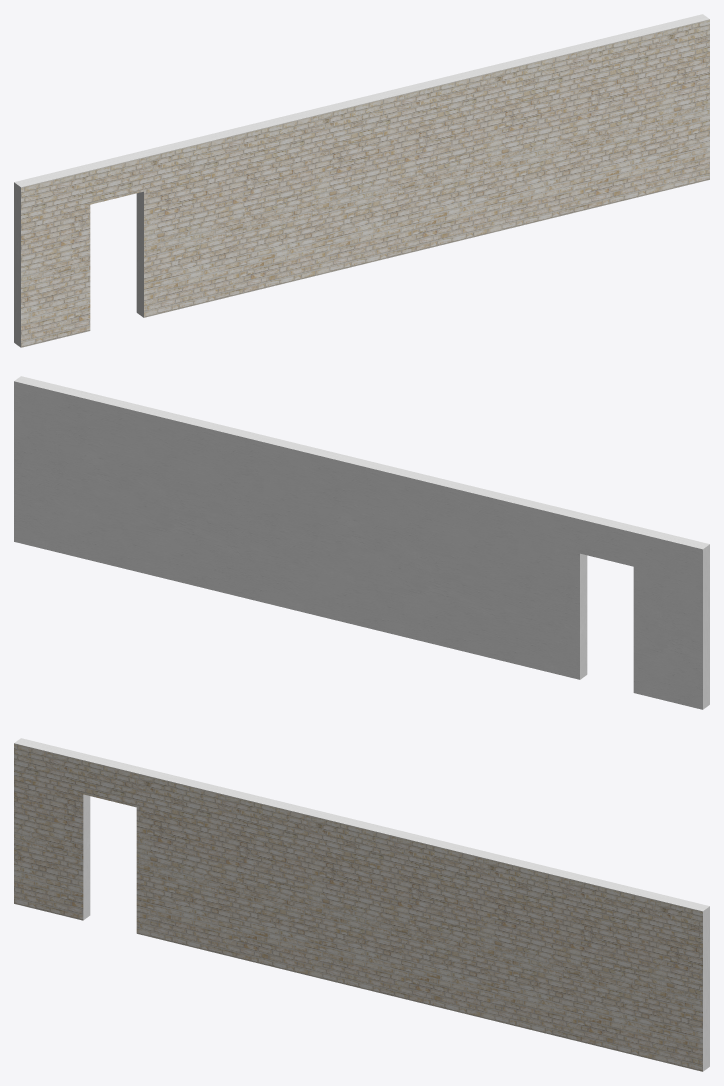
Rendered from Wall 4.FBX.
The picture shows the model from 3 angles, top to bottom: view 1: azimuth 30°, elevation 25°; view 2: azimuth 150°, elevation 25°; view 3: azimuth 330°, elevation 25°; orthographic projection.
Parts seen in each view (by area): view 1: Wall 4; view 2: Wall 4; view 3: Wall 4.
Part boxes in pixels (bbox=[...]): Wall 4: bbox=[14, 14, 709, 347]; Wall 4: bbox=[14, 376, 709, 709]; Wall 4: bbox=[14, 738, 709, 1071].
Size of the model in its own units: 1224 by 272 by 21.86.
Materials: 2 (2 with a texture image).
